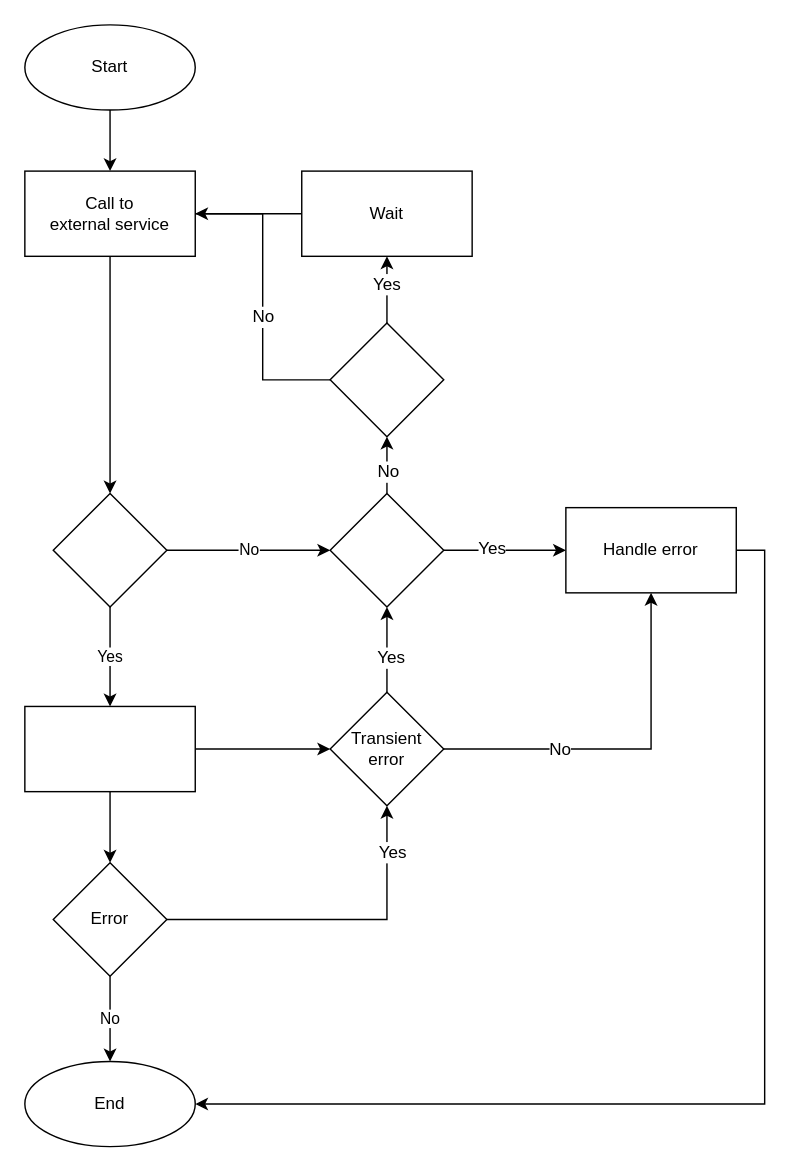
Image size: 801x1172. Some labels were removed from this diagram. The shapes that lost their labels are listed below. From the top down, each one's centre as x and y in pixels, then its label:
pixel 386 379: Delay
pixel 109 549: Connect
pixel 386 549: Max attempts reached
pixel 109 748: Execute External Service
